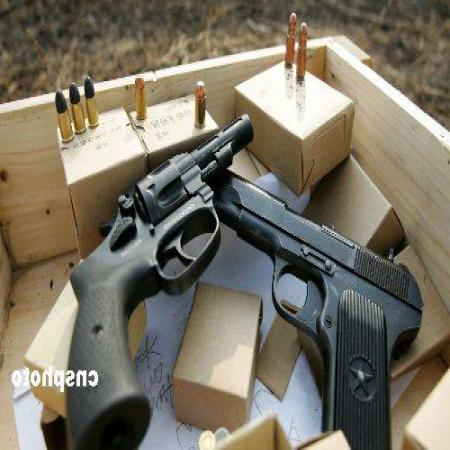Pistol: (201, 157, 426, 448), (66, 109, 256, 448)
